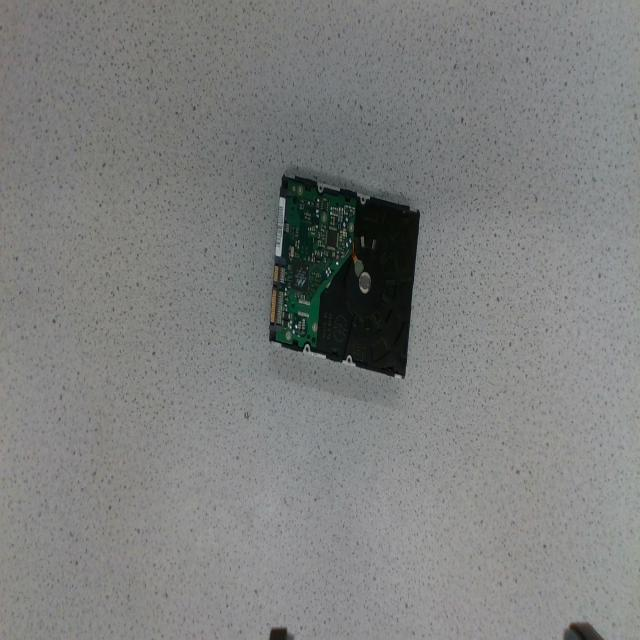case: (269, 175, 420, 377)
pcb: (274, 181, 355, 349)
screw: (320, 211, 328, 226), (348, 221, 354, 232), (298, 184, 303, 196), (286, 330, 292, 340), (312, 323, 317, 332)
